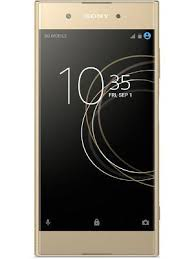sony: (32, 1, 162, 259)
